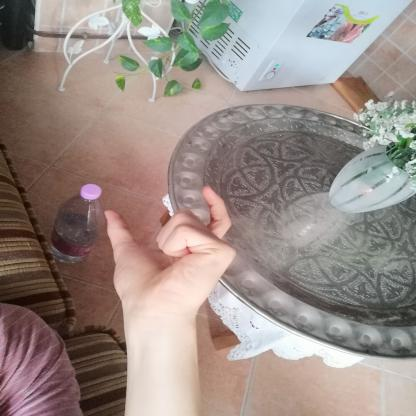NOON: (84, 180, 249, 324)
